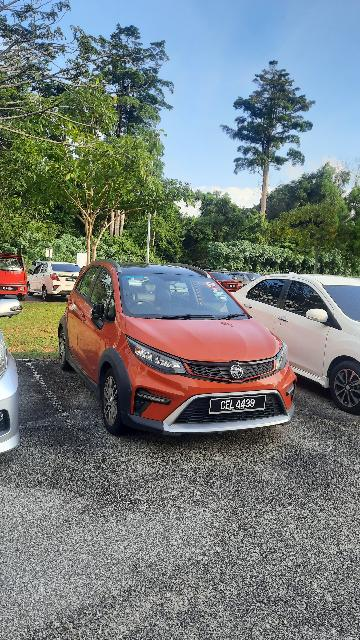License_Plate: (200, 391, 277, 417)
car: (57, 258, 300, 437), (235, 271, 360, 417)
